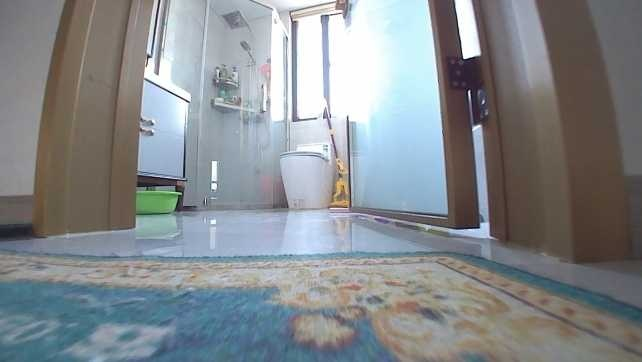blanket: (0, 248, 640, 361)
door_anno: (333, 0, 483, 228)
toilet: (276, 140, 334, 210)
washstand: (136, 68, 190, 212)
